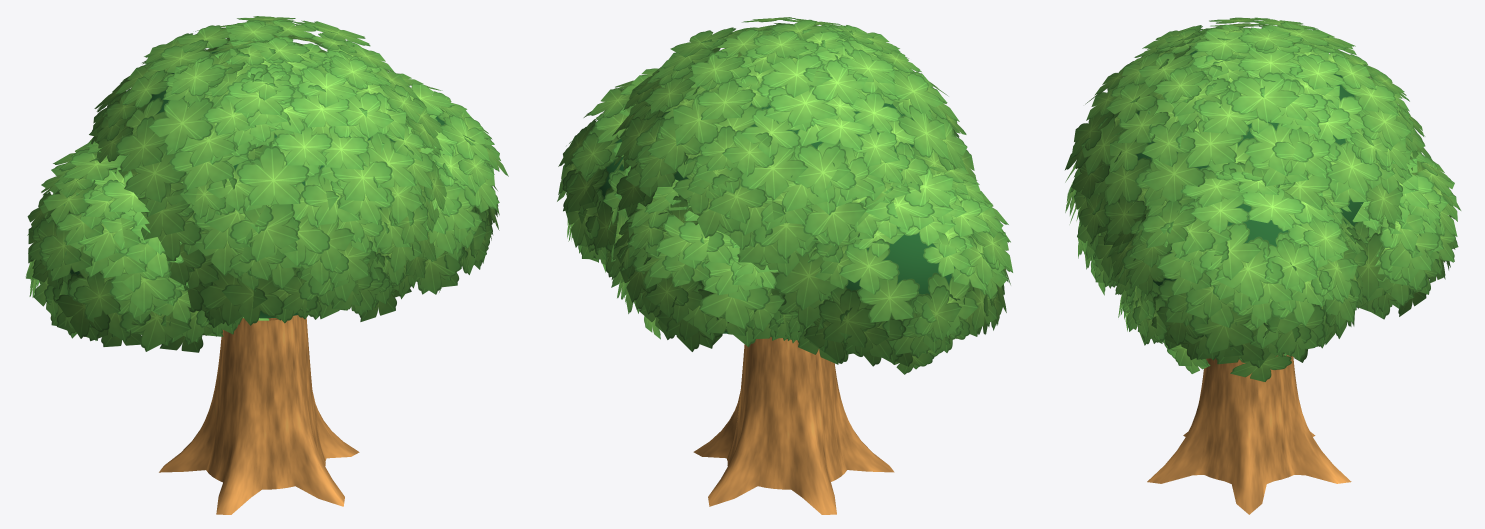
File: tree_round.glb
The picture shows the model from 3 angles, left to right: view 1: azimuth 30°, elevation 25°; view 2: azimuth 150°, elevation 25°; view 3: azimuth 270°, elevation 25°; orthographic projection.
Parts seen in each view (by area): view 1: Lump0, Lump1, Trunk, Lump2, Lump4; view 2: Lump0, Lump1, Trunk, Lump3, Lump2, Lump4, Lump1Core; view 3: Lump0, Lump2, Trunk, Lump3, Lump4, Lump2Core, Lump0Core.
Boxes of the visible parts, x1,y1,x2,y2 form: Lump0: [88, 16, 446, 336]; Lump1: [25, 141, 245, 352]; Trunk: [159, 315, 359, 514]; Lump2: [394, 73, 508, 297]; Lump4: [204, 37, 331, 166]; Lump0: [607, 17, 976, 339]; Lump1: [791, 159, 1012, 374]; Trunk: [693, 337, 894, 514]; Lump3: [609, 179, 802, 351]; Lump2: [557, 68, 692, 277]; Lump4: [738, 19, 902, 114]; Lump1Core: [846, 226, 970, 294]; Lump0: [1064, 17, 1432, 308]; Lump2: [1107, 166, 1365, 381]; Trunk: [1147, 354, 1351, 514]; Lump3: [1352, 150, 1461, 319]; Lump4: [1147, 24, 1282, 99]; Lump2Core: [1153, 203, 1301, 285]; Lump0Core: [1135, 74, 1363, 226].
Bounding box in the file's own units: 5.08 × 4.68 × 4.07.
Materials: 3 (2 with a texture image).
